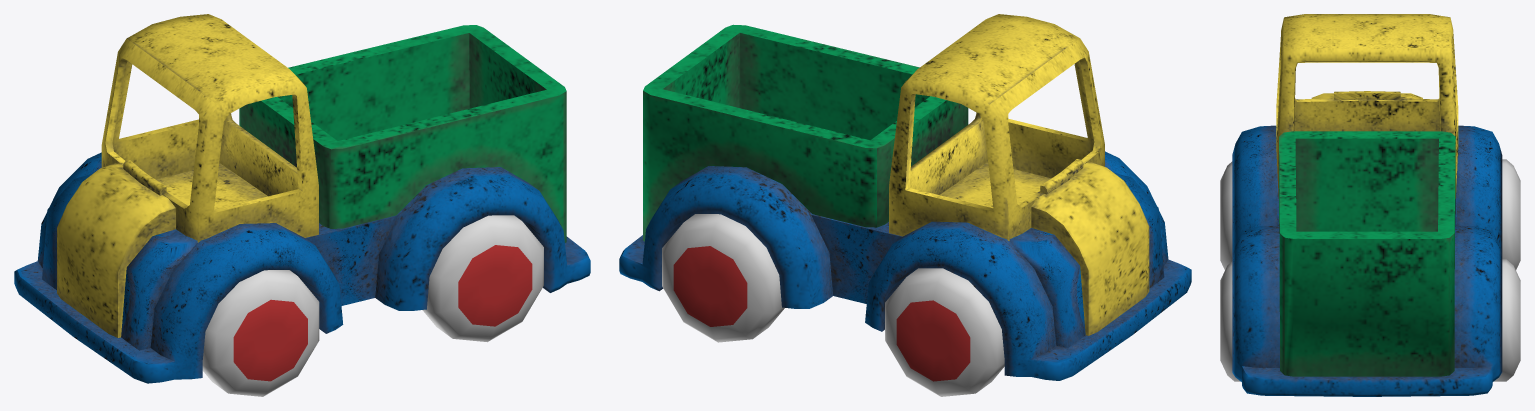
The model's file is old_car.fbx.
3 views of the same model, side by side, from view 1: azimuth 30°, elevation 25°; view 2: azimuth 150°, elevation 25°; view 3: azimuth 270°, elevation 25° (orthographic). The views are drawn at different scales.
Parts seen in each view (by area): view 1: old_car; view 2: old_car; view 3: old_car.
Boxes of the visible parts, box(x1,y1,x2,y2) form: old_car: box(14, 14, 590, 396); old_car: box(619, 14, 1191, 396); old_car: box(1220, 14, 1520, 396).
Size of the model in its own units: 0.3594 by 0.2155 by 0.2236.
